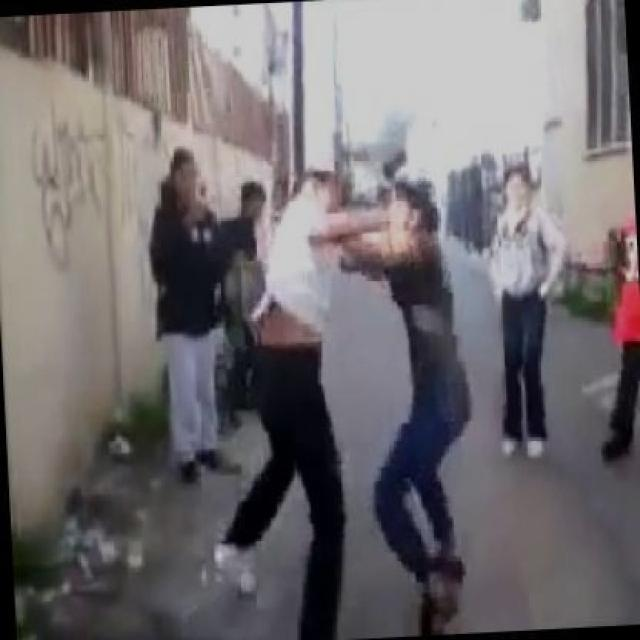fight: (209, 131, 476, 640)
non-fight: (454, 153, 577, 470), (144, 140, 244, 486), (583, 221, 639, 457)
